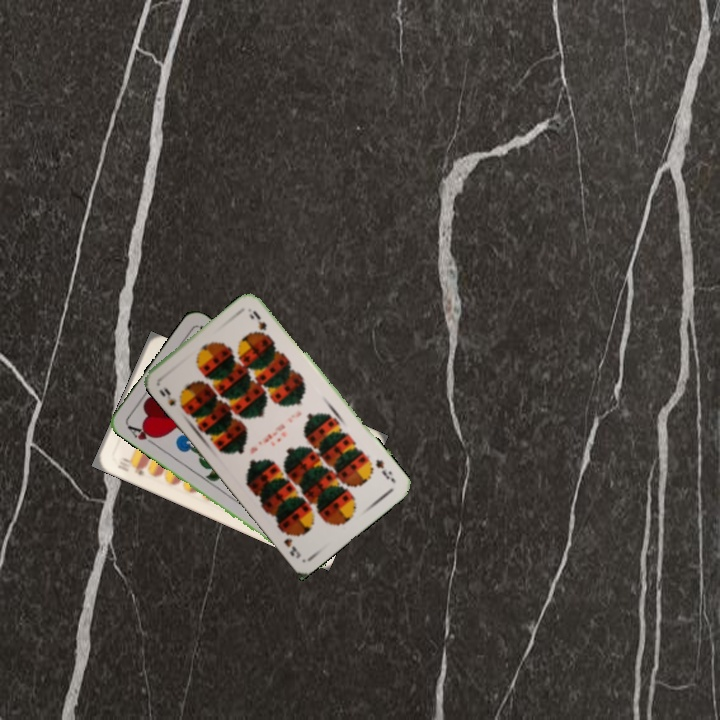E10: (113, 457, 148, 478)
HA: (123, 420, 160, 449)
S9: (155, 384, 186, 412), (371, 455, 395, 482)
